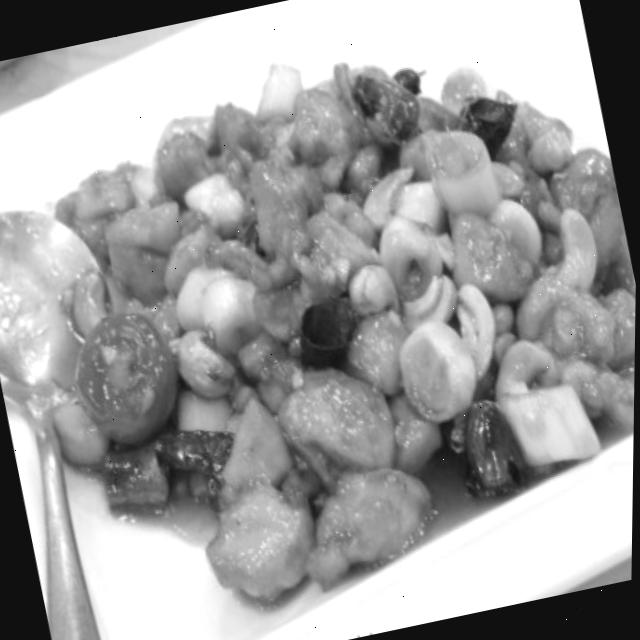鸡肉料理 含炸鸡: (6, 9, 640, 640)
